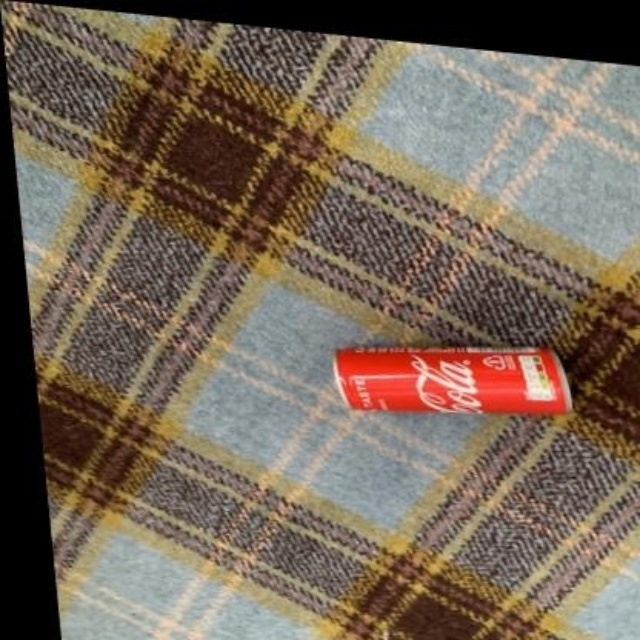trash: (334, 348, 571, 412)
